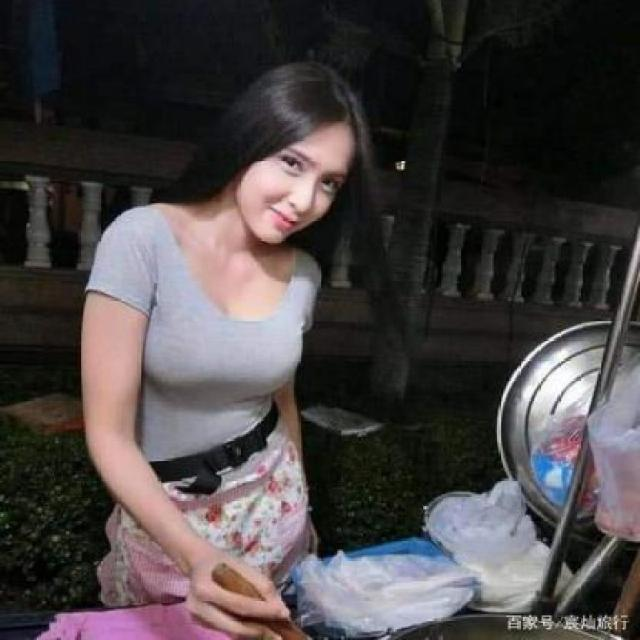face_nomask: (235, 137, 338, 252)
hand_noglove: (178, 555, 294, 637)
head_nohelmet: (256, 57, 386, 152)
person: (66, 47, 400, 640)
